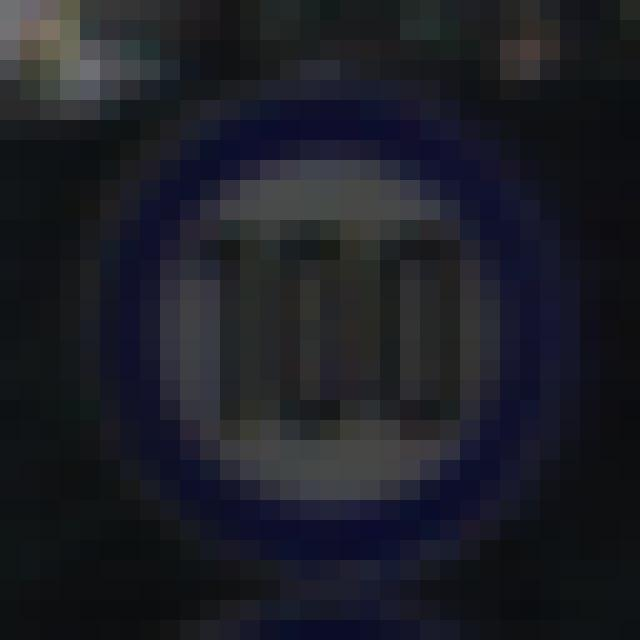SPEED LIMIT 100: (85, 113, 565, 536)
